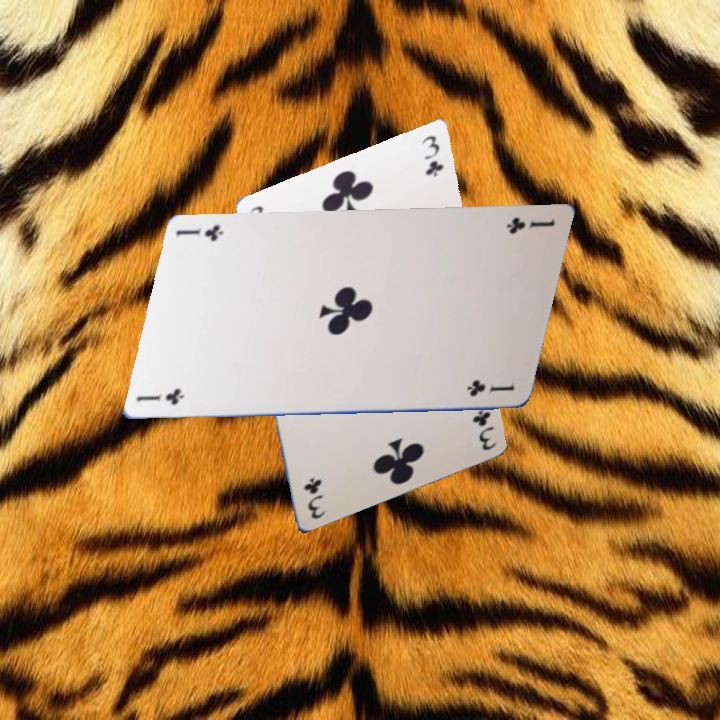1c: (172, 221, 234, 244), (503, 212, 565, 235), (463, 378, 526, 400), (133, 387, 195, 409)
3c: (296, 468, 326, 524), (415, 128, 445, 184)
